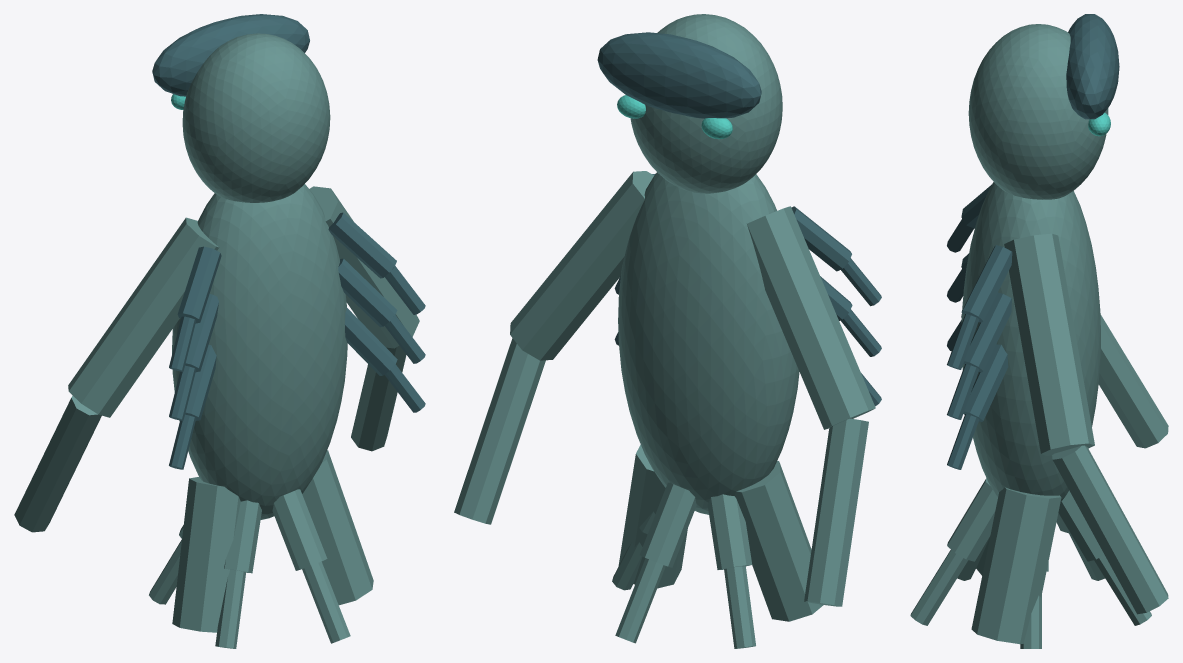
The model's file is abyss-drowned.glb.
The picture shows the model from 3 angles, left to right: view 1: azimuth 30°, elevation 25°; view 2: azimuth 150°, elevation 25°; view 3: azimuth 270°, elevation 25°; orthographic projection. The views are drawn at different scales.
Parts seen in each view (by area): view 1: world; view 2: world; view 3: world.
Part boxes in pixels (left/top/right/bottom): world: left=14, top=14, right=425, bottom=648; world: left=454, top=14, right=881, bottom=648; world: left=910, top=14, right=1168, bottom=648.
Bounding box in the file's own units: 1.18 × 1.75 × 0.7016.
